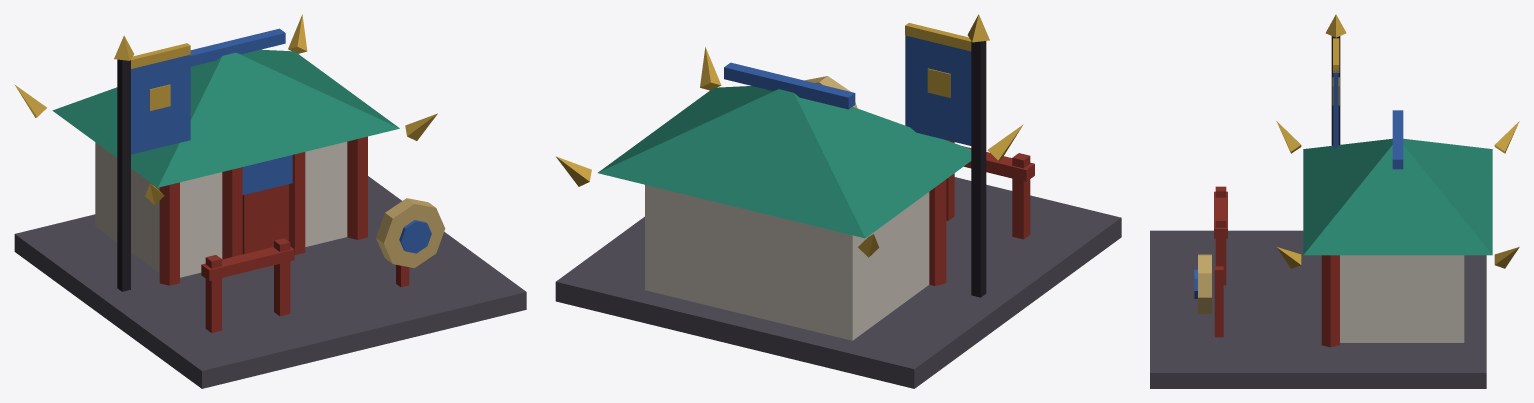
File: camp_militia_t1.glb
The picture shows the model from 3 angles, left to right: view 1: azimuth 30°, elevation 25°; view 2: azimuth 150°, elevation 25°; view 3: azimuth 270°, elevation 25°; orthographic projection. The views are drawn at different scales.
Visible parts, largest first — view 1: body; view 2: body; view 3: body.
Boxes of the visible parts, x1,y1,x2,y2 form: body: (14,14,526,388); body: (555,14,1121,388); body: (1150,14,1519,388).
Size of the model in its own units: 1.9 by 1.52 by 2.09.
